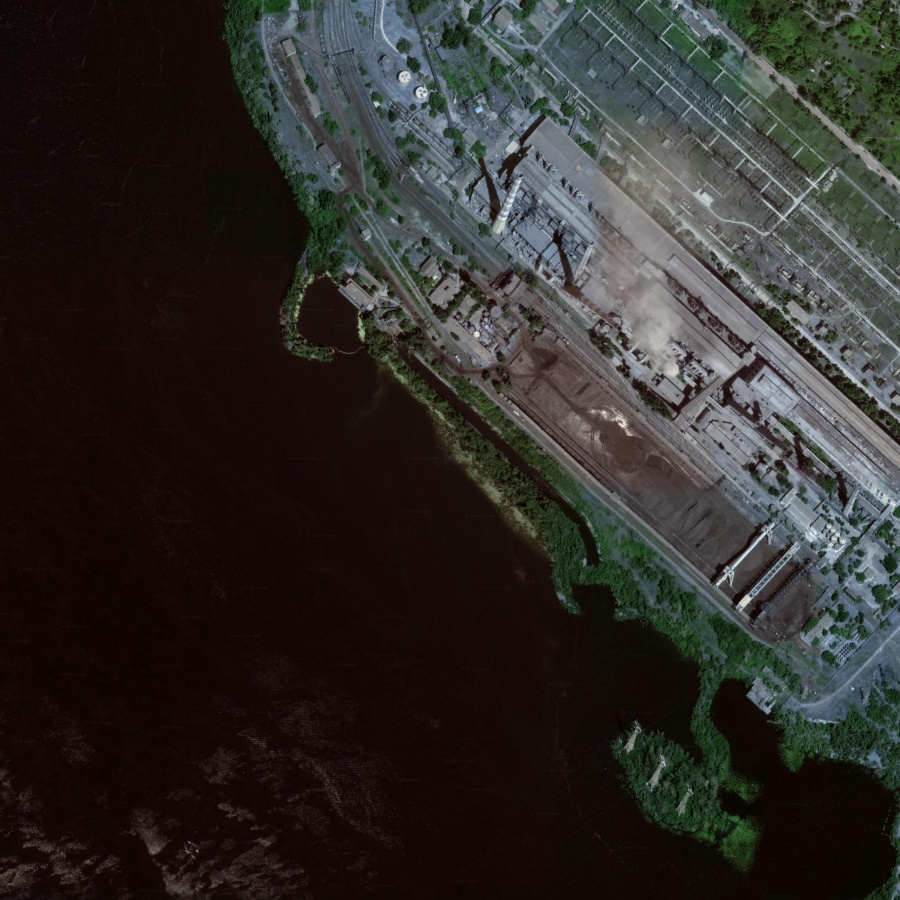PowerPlant: (448, 143, 881, 642)
